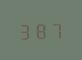eight: (34, 20, 48, 39)
seven: (49, 19, 63, 39)
three: (18, 20, 32, 40)
